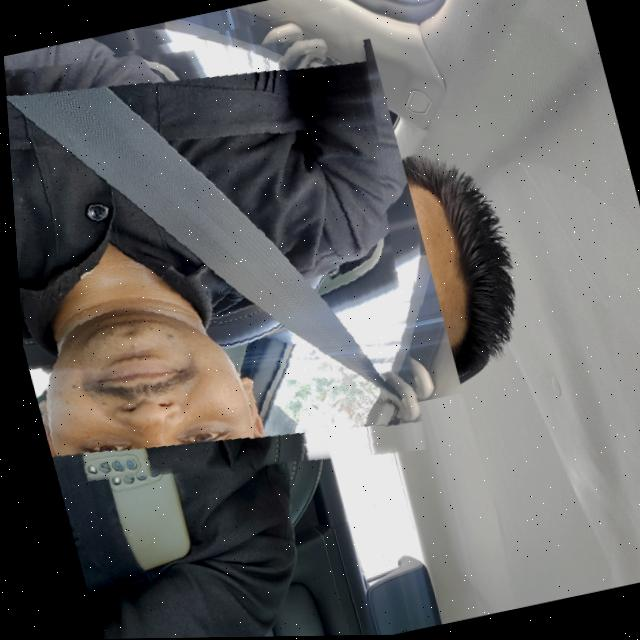seatbelt: (1, 5, 454, 516)
